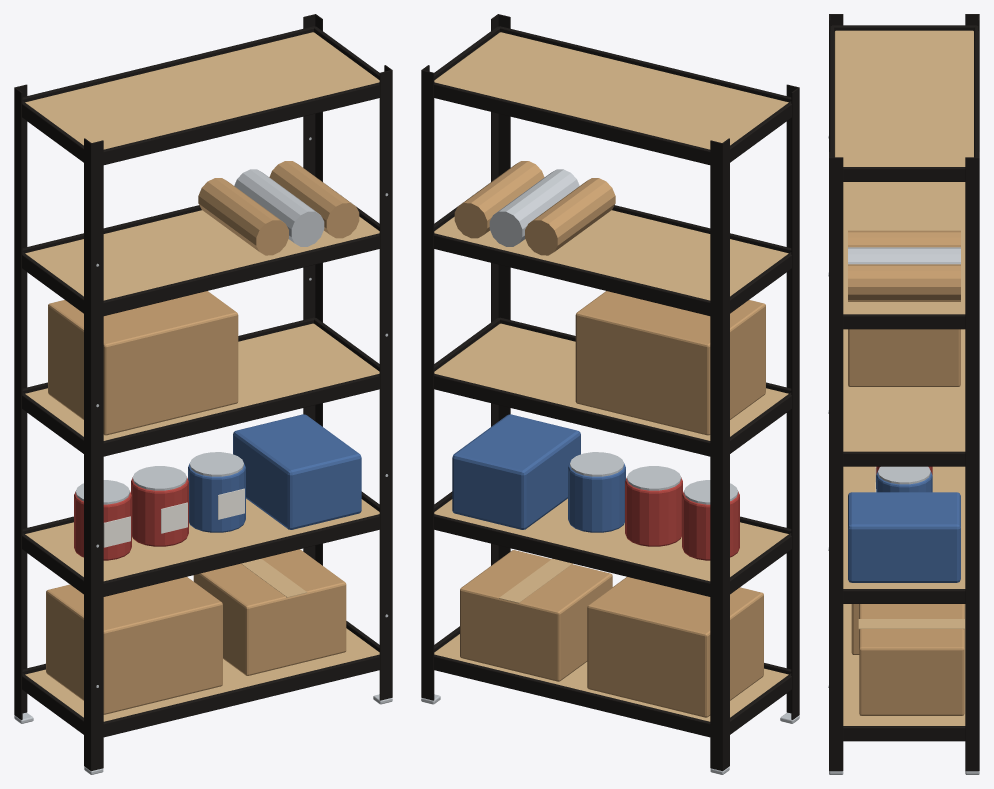
File: hh_cat_metal_shelving.glb
The picture shows the model from 3 angles, left to right: view 1: azimuth 30°, elevation 25°; view 2: azimuth 150°, elevation 25°; view 3: azimuth 270°, elevation 25°; orthographic projection. The views are drawn at different scales.
Visible parts, largest first — view 1: carton.002, shelf_board.004, carton, carton.001, shelf_board.003, storage_crate, shelf_board.002, post.004, post, shelf_board.001, post.003, post.001 (+30 smaller); view 2: carton.002, shelf_board.004, carton, carton.001, shelf_board.003, storage_crate, shelf_board.002, post.006, post.002, shelf_board.001, post.001, post.003 (+27 smaller); view 3: shelf_board.004, carton.001, storage_crate, post.005, post.007, shelf_board.002, shelf_board.003, carton.002, roll.002, shelf_board.001, shelf_board, roll (+15 smaller).
Boxes of the visible parts, box(x1,y1,x2,y2) form: carton.002: box(48, 291, 238, 435); shelf_board.004: box(25, 32, 379, 149); carton: box(46, 577, 222, 714); carton.001: box(193, 549, 346, 675); shelf_board.003: box(25, 210, 379, 300); storage_crate: box(233, 414, 361, 529); shelf_board.002: box(25, 323, 379, 440); post.004: box(379, 70, 392, 700); post: box(90, 140, 103, 770); shelf_board.001: box(25, 498, 379, 581); post.003: box(14, 87, 22, 719); post.001: box(84, 138, 91, 770); carton.002: box(575, 291, 765, 435); shelf_board.004: box(434, 32, 788, 149); carton: box(587, 577, 763, 717); carton.001: box(460, 550, 612, 681); shelf_board.003: box(434, 210, 788, 300); storage_crate: box(452, 414, 580, 529); shelf_board.002: box(434, 323, 788, 440); post.006: box(421, 70, 434, 700); post.002: box(710, 140, 723, 770); shelf_board.001: box(434, 498, 788, 581); post.001: box(791, 87, 799, 719); post.003: box(722, 138, 729, 770); shelf_board.004: box(834, 30, 973, 166); carton.001: box(859, 604, 964, 715); storage_crate: box(848, 492, 960, 582); post.005: box(829, 157, 843, 771); post.007: box(965, 157, 979, 771); shelf_board.002: box(843, 329, 965, 451); shelf_board.003: box(843, 182, 965, 314); carton.002: box(848, 329, 960, 386); roll.002: box(848, 264, 960, 301); shelf_board.001: box(843, 466, 965, 588); shelf_board: box(843, 604, 965, 725); roll: box(848, 230, 960, 247).
Size of the model in its own units: 0.9 by 1.8 by 0.4.
